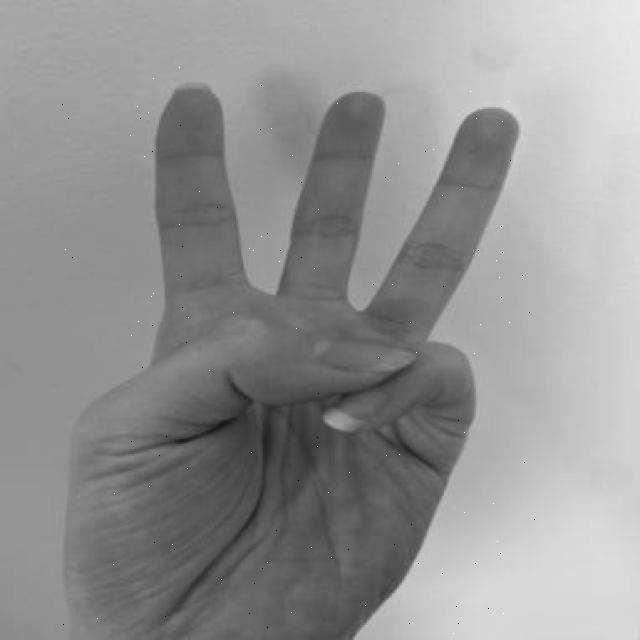W: (50, 67, 536, 638)
